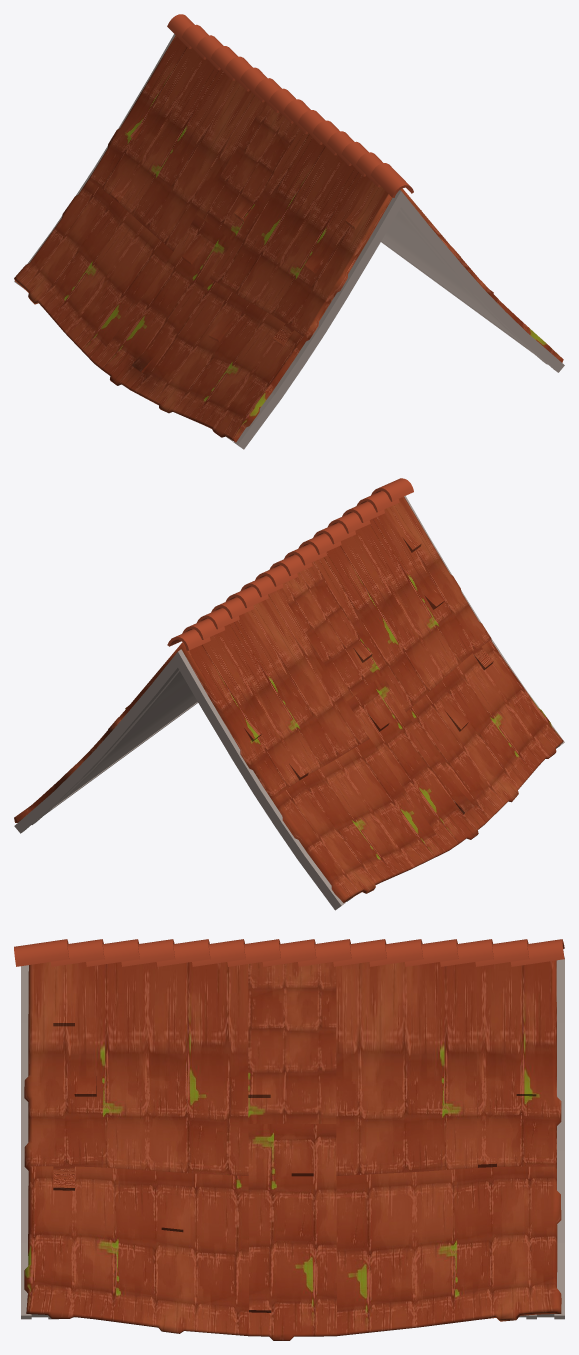
File: Roof_FlatTiles_8x10.gltf
3 views of the same model, one above another, from view 1: azimuth 30°, elevation 25°; view 2: azimuth 150°, elevation 25°; view 3: azimuth 270°, elevation 25° (orthographic). The views are drawn at different scales.
Parts seen in each view (by area): view 1: Roof_FlatTiles_8x10; view 2: Roof_FlatTiles_8x10; view 3: Roof_FlatTiles_8x10.
Part boxes in pixels (x1=…): Roof_FlatTiles_8x10: x1=14, y1=14, x2=564, y2=449; Roof_FlatTiles_8x10: x1=14, y1=478, x2=564, y2=910; Roof_FlatTiles_8x10: x1=14, y1=939, x2=564, y2=1340.
Bounding box in the file's own units: 10.96 × 6.97 × 11.86.
3 materials, 3 textured.
